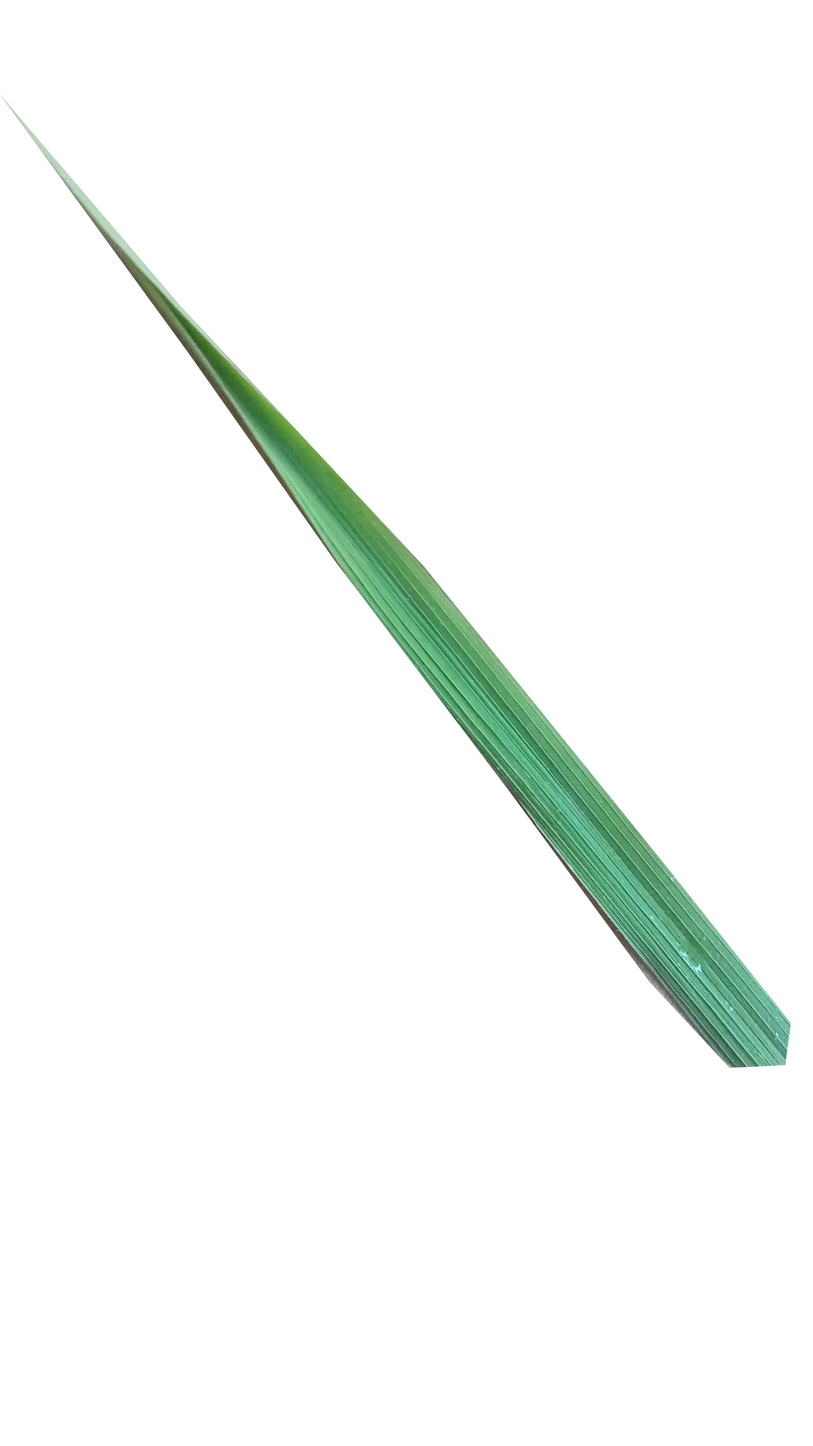Healthy: (7, 105, 792, 1076)
